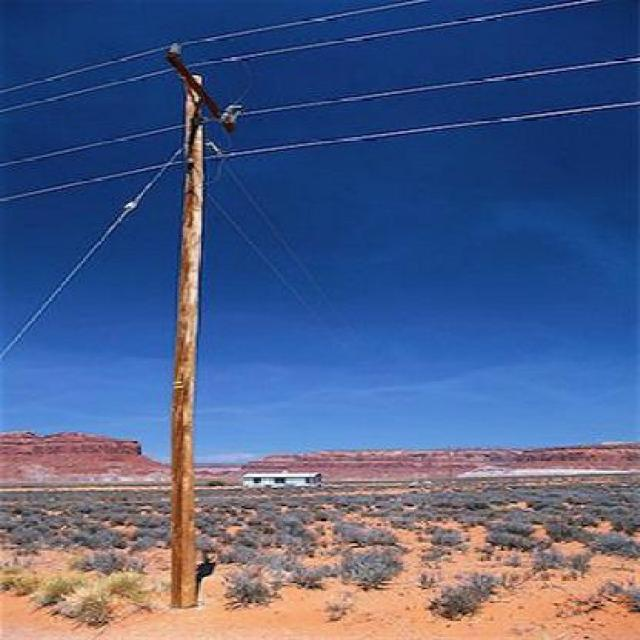pole: (123, 29, 272, 608)
